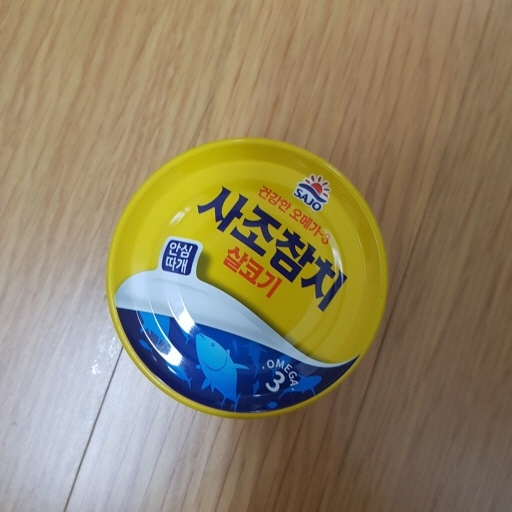Metal_1: (103, 133, 390, 424)
